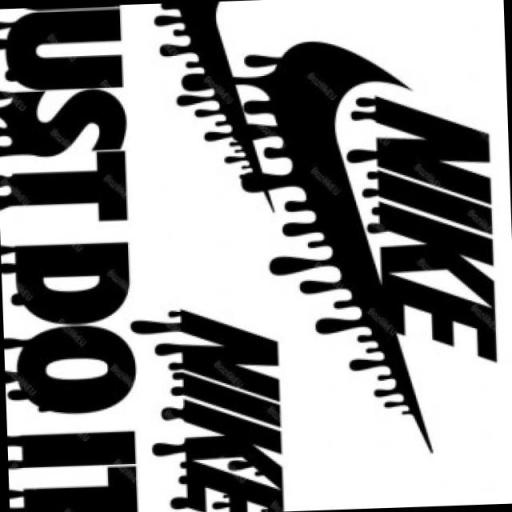Nike: (267, 39, 405, 387), (367, 89, 500, 367)
